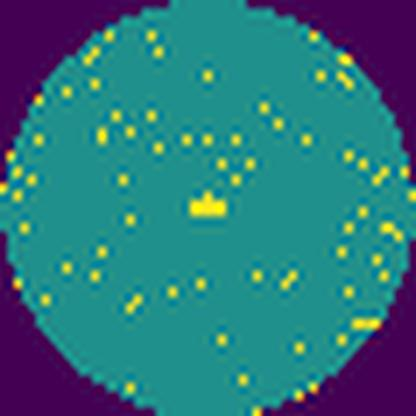Center: (190, 190, 227, 221)
